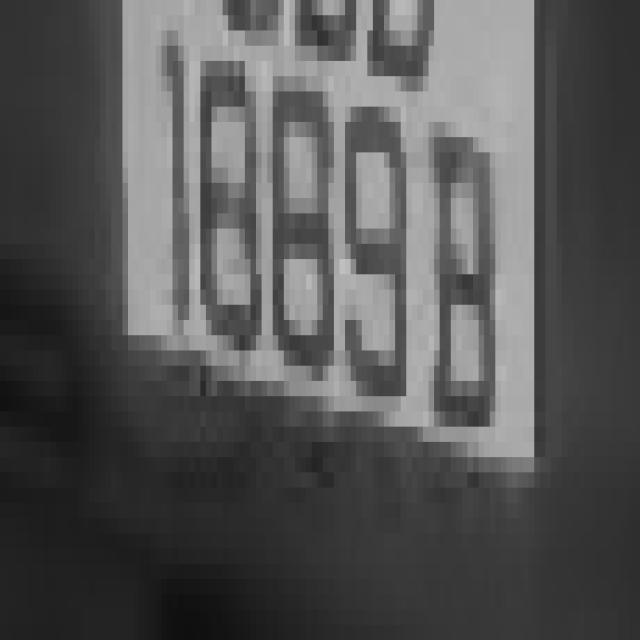1: (156, 15, 200, 366)
8: (267, 31, 340, 412), (189, 15, 262, 381)
9: (334, 46, 417, 457)
B: (423, 76, 512, 472)
